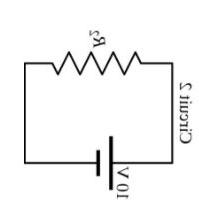Battery: (73, 125, 123, 192)
